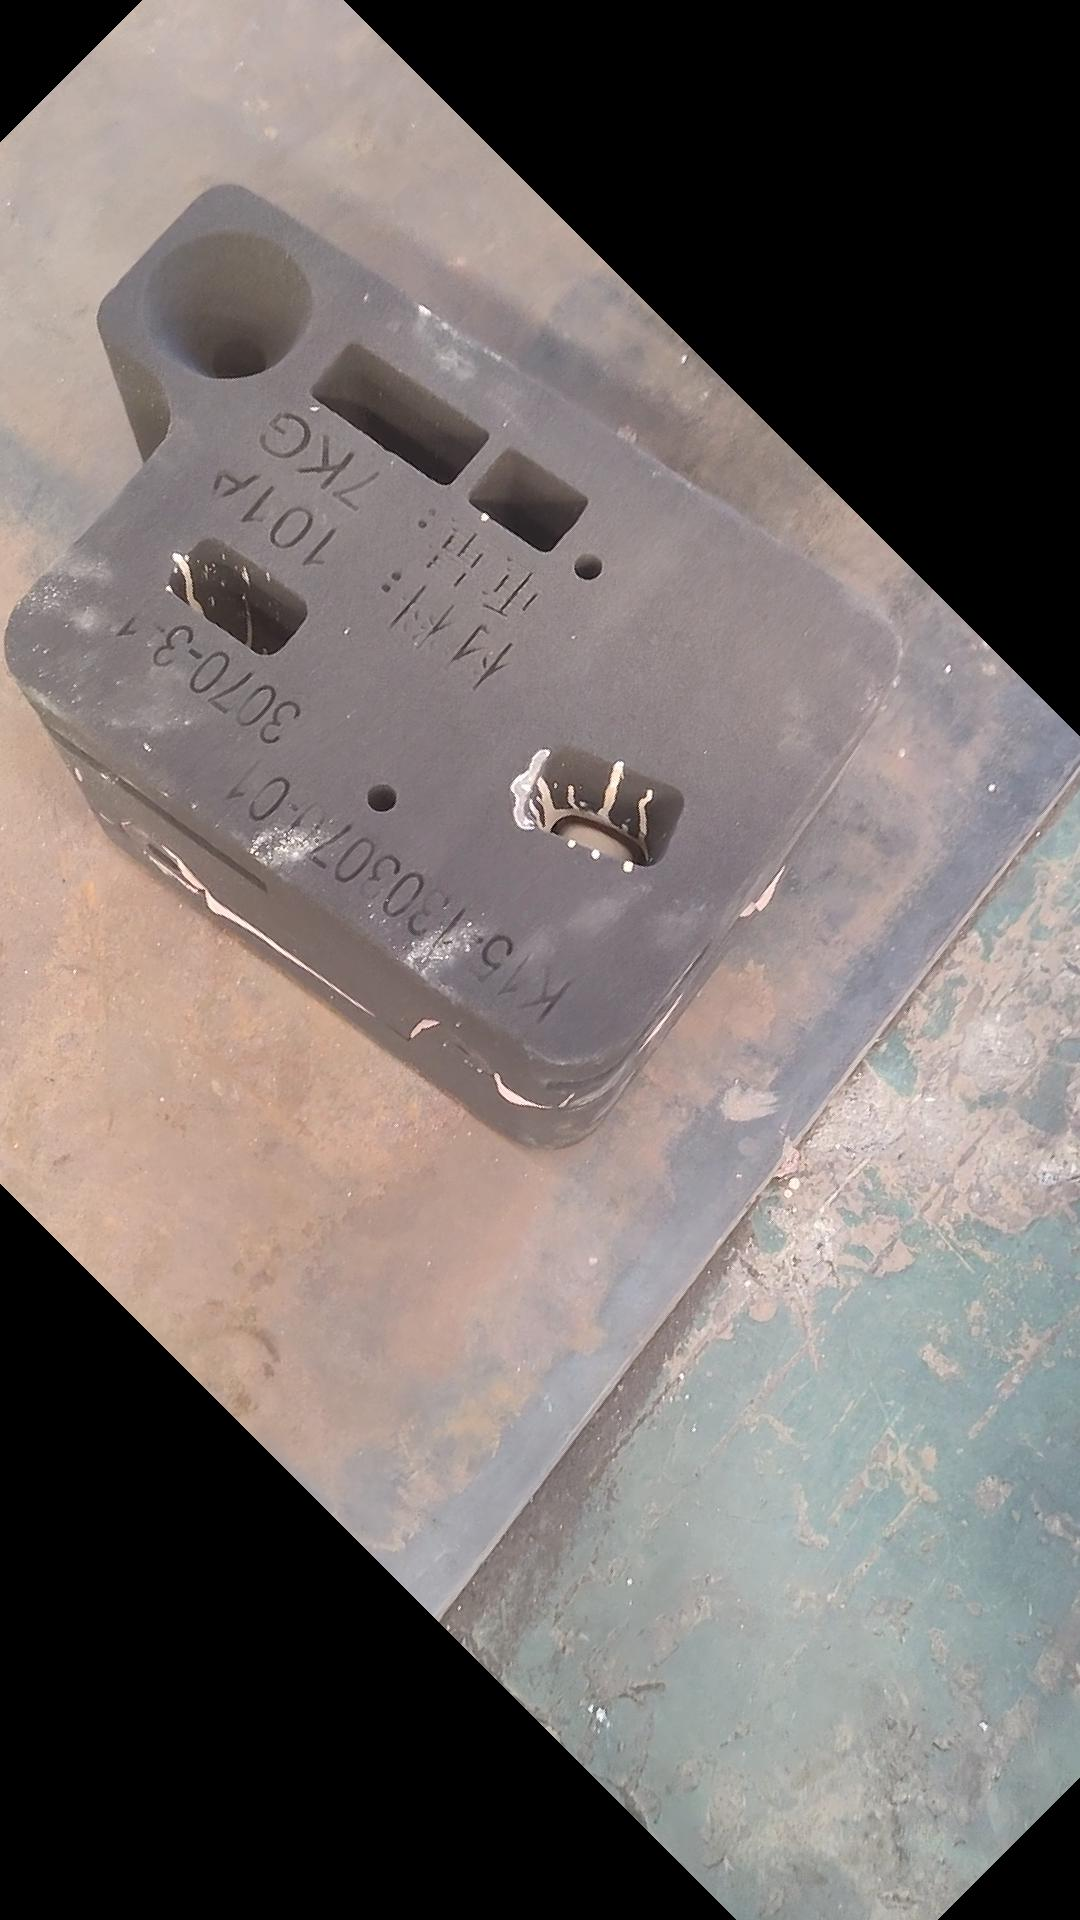pouring hole: (142, 232, 313, 382)
